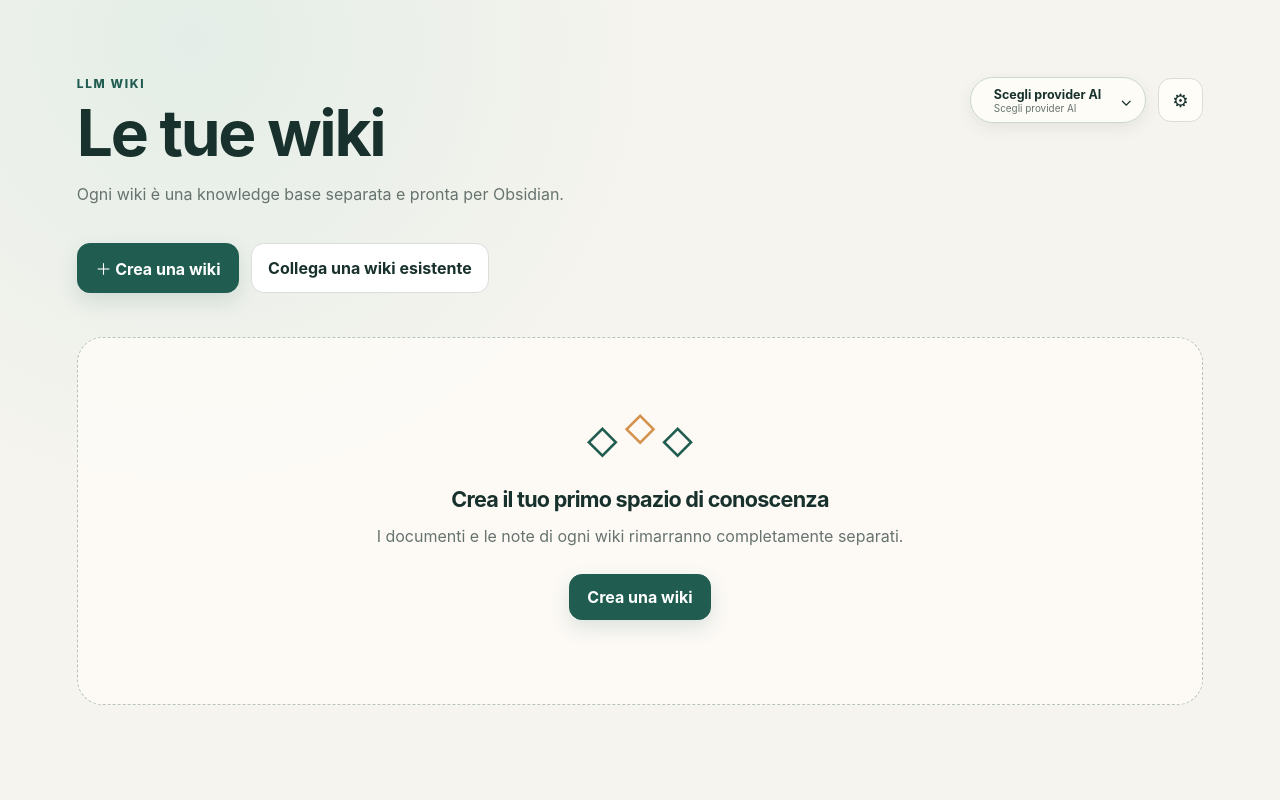
Test: App › shows optional NVIDIA acceleration and enables it from settings
Click the button named "Impostazioni": (1180, 100) [1158,78,1203,122]
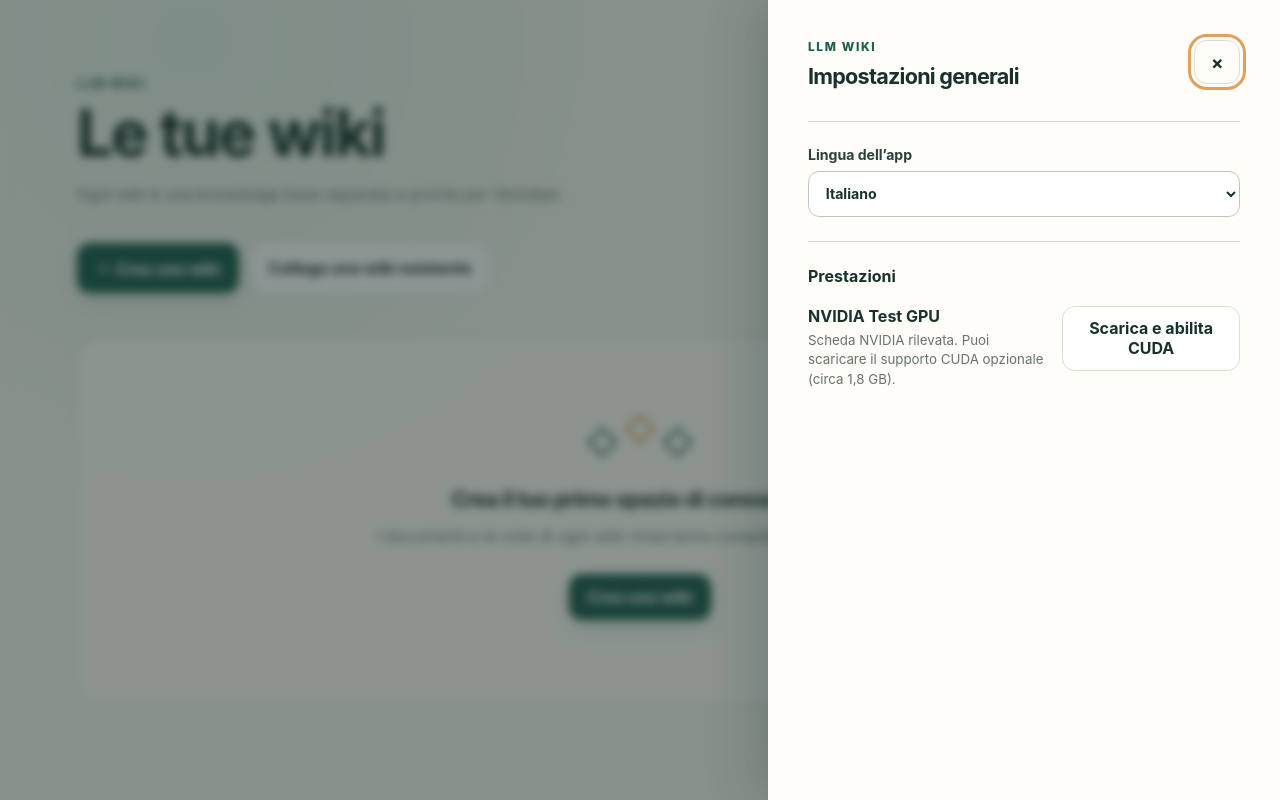
Now the text "NVIDIA Test GPU" is shown, box [808,306,940,326]
Click the button "Scarica e abilita CUDA": (1151, 338) [1062,306,1240,371]
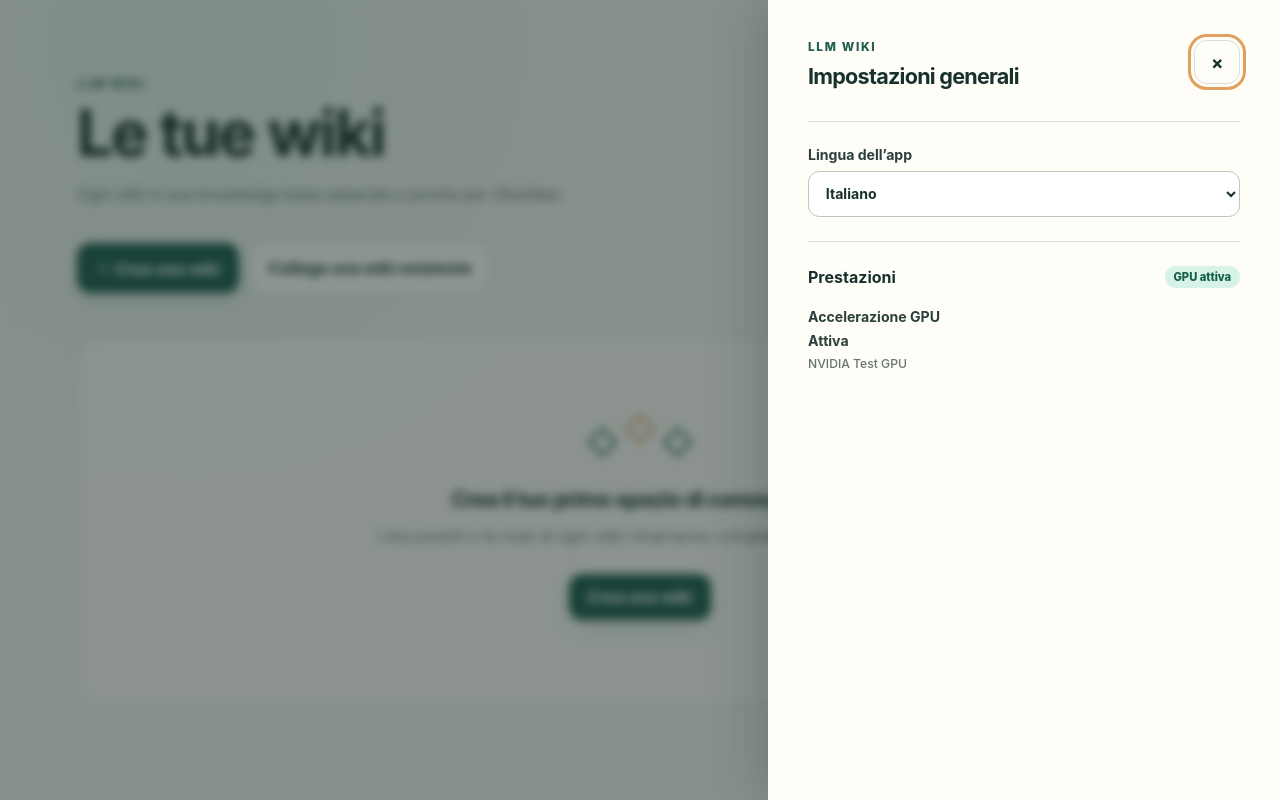
Now the text "GPU attiva" is shown, box [1165,266,1240,288]
